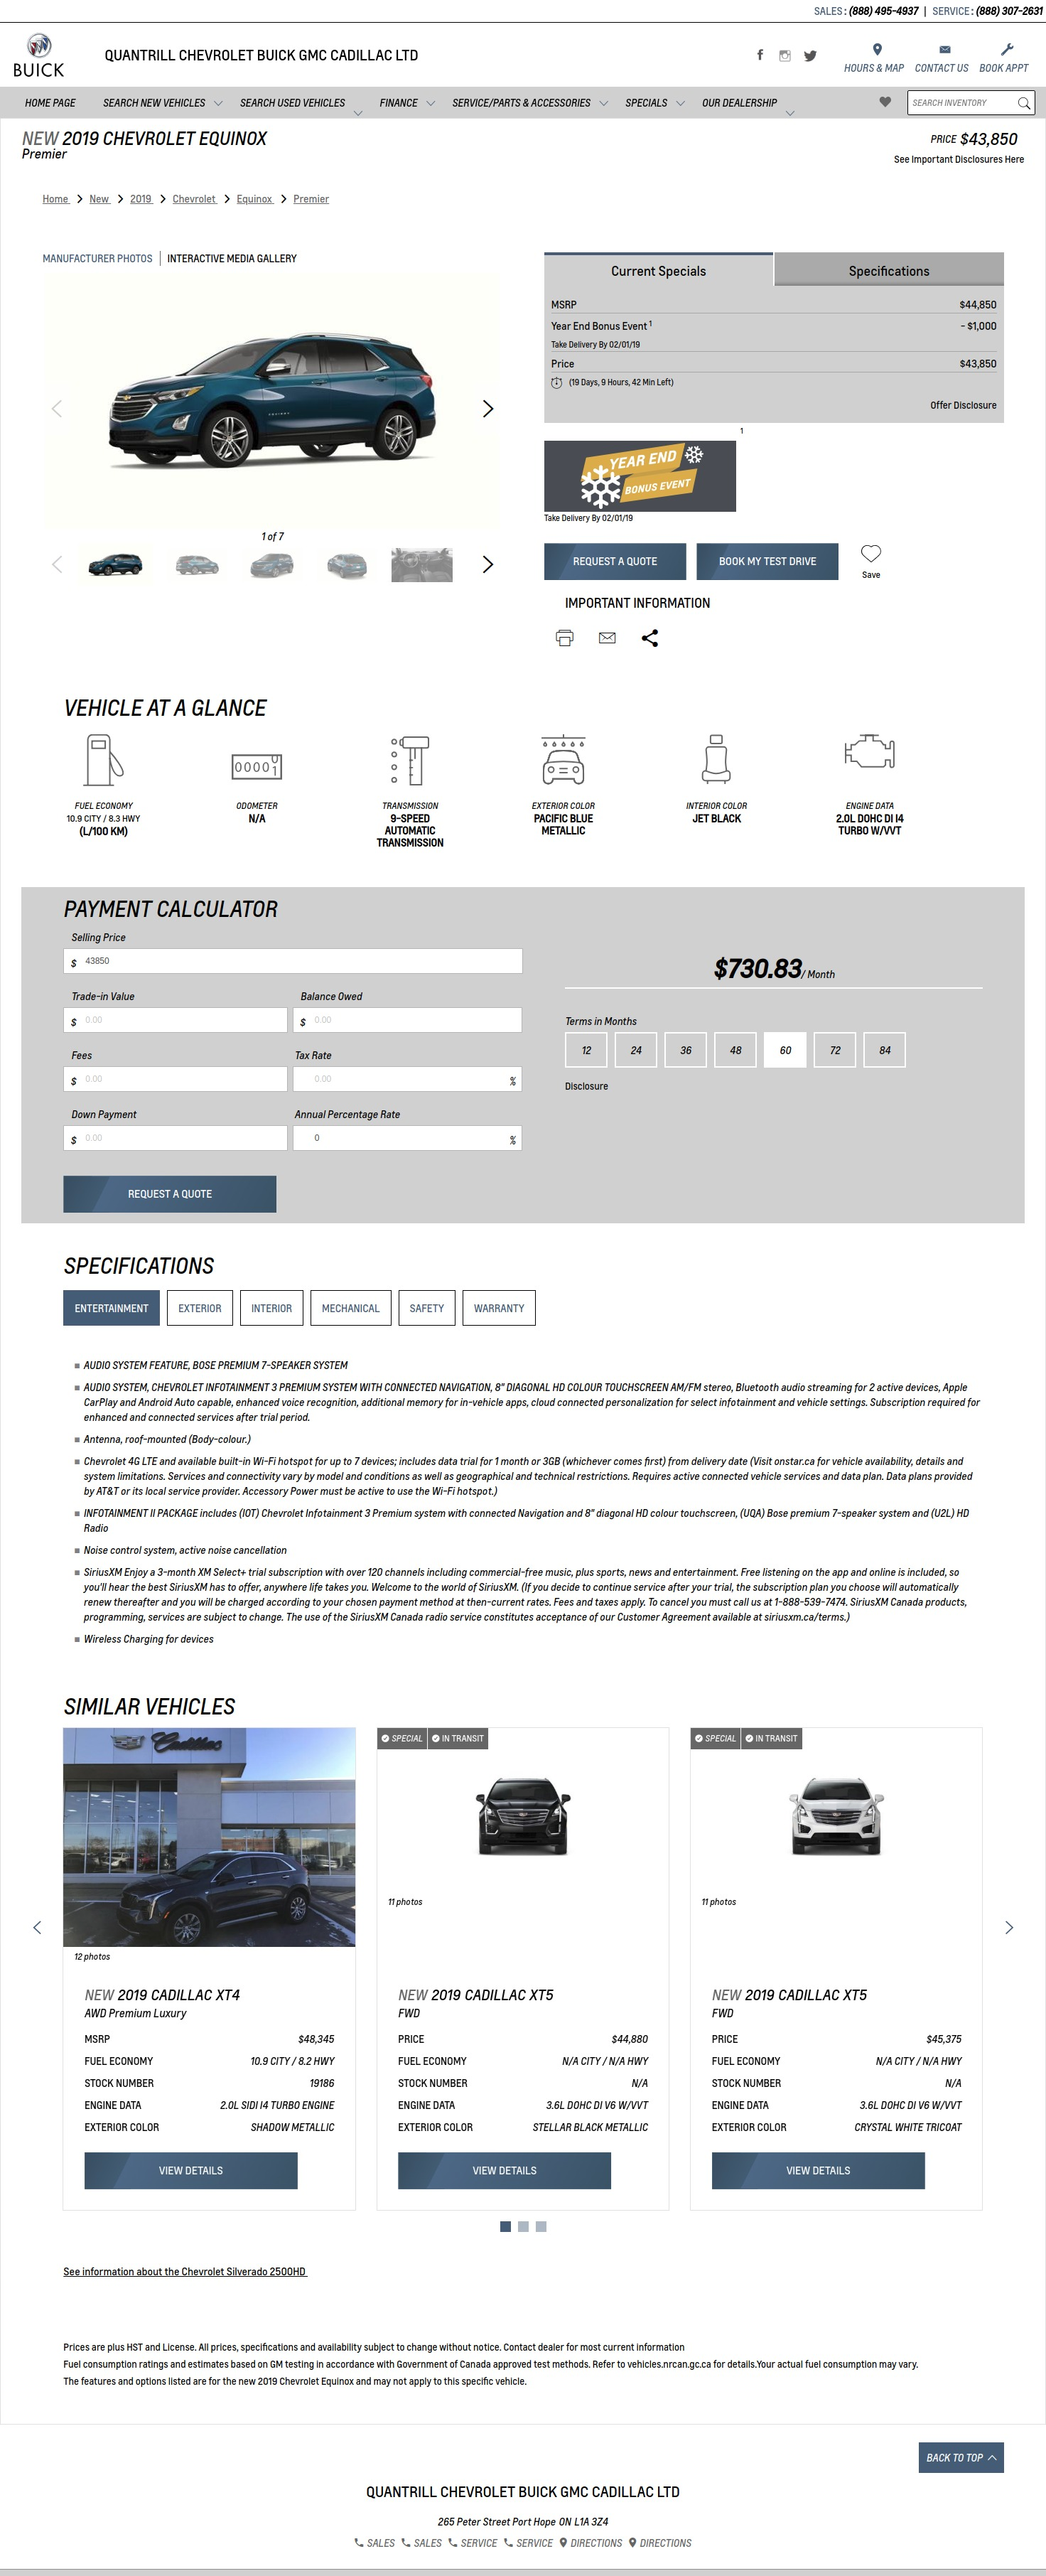car: (483, 555, 494, 575)
